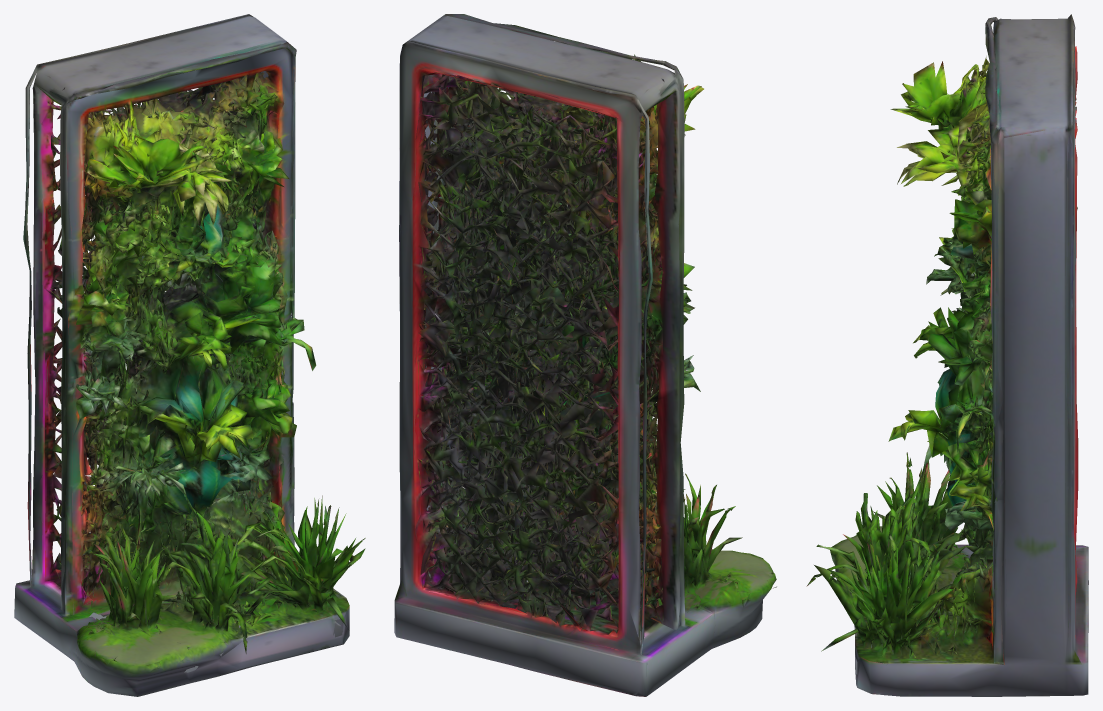
The model's file is Meshy_AI_Sci_fi_futuristic_Ver_1017075405_texture.fbx.
3 views of the same model, side by side, from view 1: azimuth 30°, elevation 25°; view 2: azimuth 150°, elevation 25°; view 3: azimuth 270°, elevation 25° (orthographic). The views are drawn at different scales.
Parts seen in each view (by area): view 1: Mesh_0; view 2: Mesh_0; view 3: Mesh_0.
Boxes of the visible parts, left/top/right/bottom form: Mesh_0: left=14, top=14, right=365, bottom=696; Mesh_0: left=394, top=14, right=776, bottom=696; Mesh_0: left=806, top=14, right=1088, bottom=696.
Size of the model in its own units: 103 by 198 by 88.71.
1 material, 1 textured.
